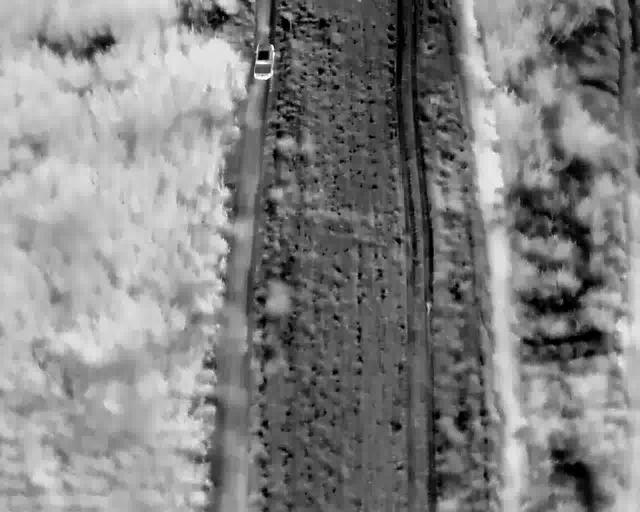car: (253, 43, 275, 80)
